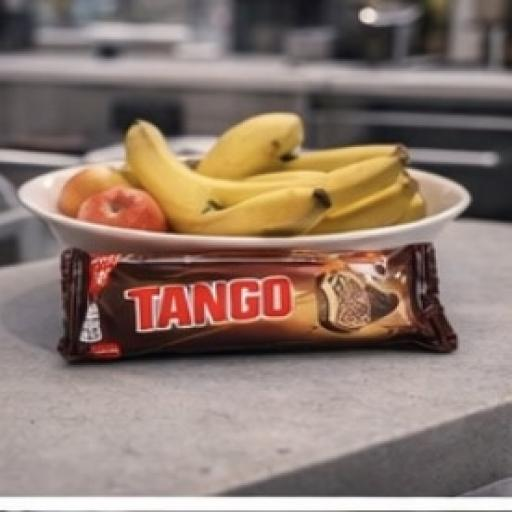tango: (43, 201, 478, 393)
